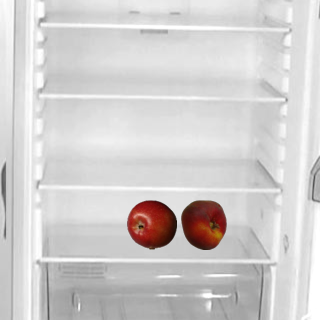Apple Braeburn: (126, 199, 176, 249)
Nectarine Flat: (178, 199, 228, 249)
